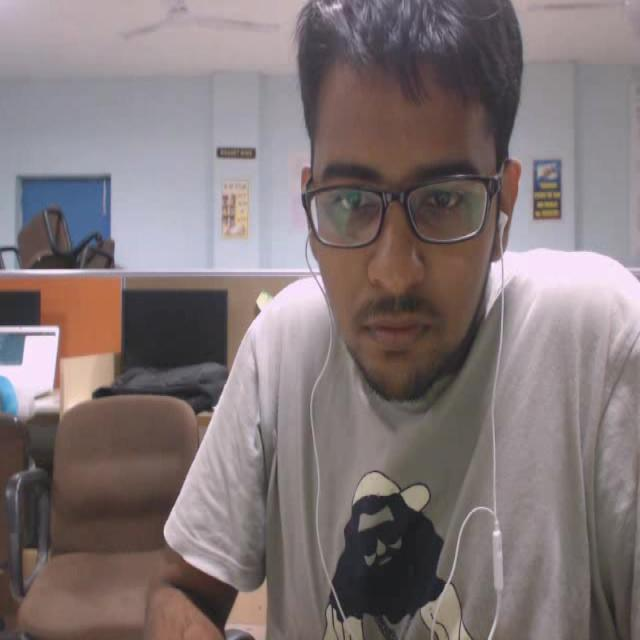Engaged: (276, 0, 585, 414)
